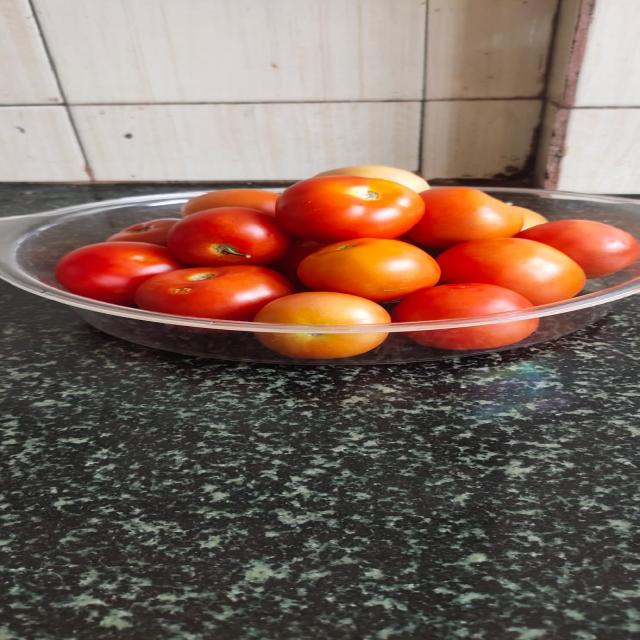Tomato: (274, 175, 424, 243), (436, 237, 586, 305), (297, 238, 440, 303), (134, 265, 292, 321), (53, 242, 185, 306), (166, 207, 291, 267), (405, 187, 524, 249), (515, 220, 639, 279), (391, 283, 534, 322), (252, 292, 389, 325), (314, 166, 430, 193), (180, 189, 279, 216), (104, 218, 177, 246)
